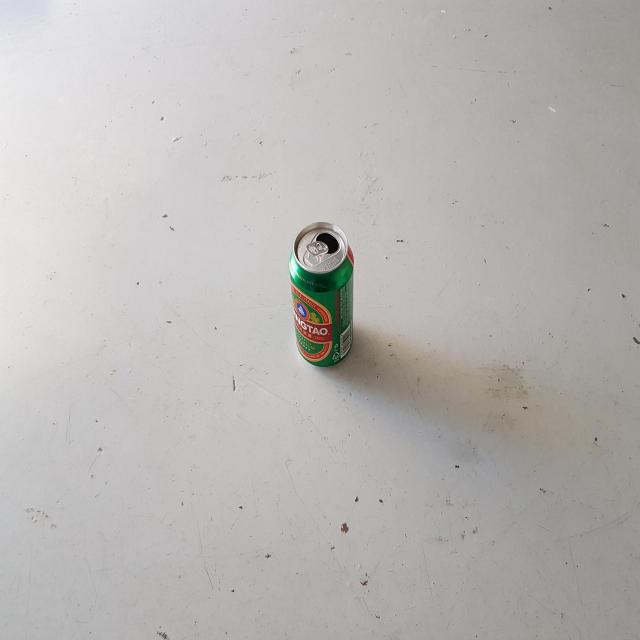can: (289, 221, 354, 366)
